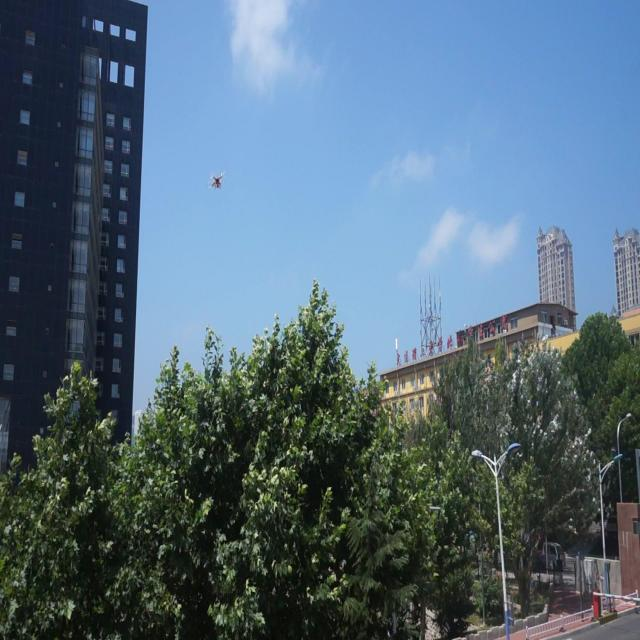UAV: (208, 170, 226, 190)
